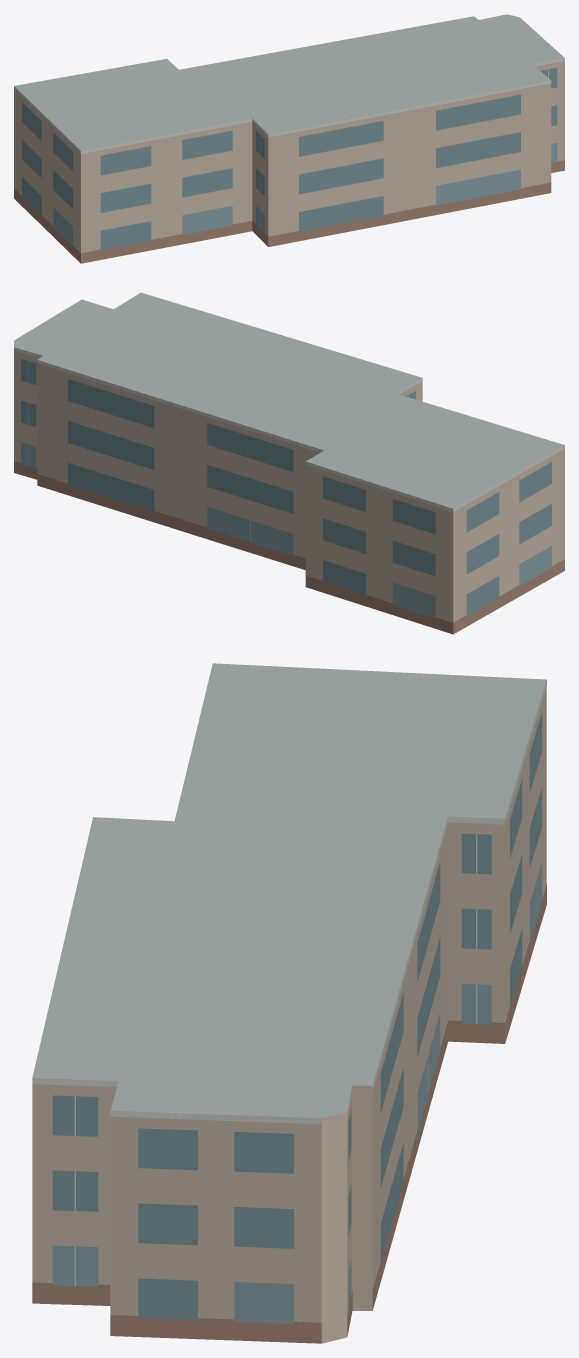
File: survey-upis-32634508.glb
3 renders of one model, top to bottom at view 1: azimuth 30°, elevation 25°; view 2: azimuth 150°, elevation 25°; view 3: azimuth 270°, elevation 25°, orthographic. The views are drawn at different scales.
Visible parts, largest first — view 1: survey-upis-32634508.tmp; view 2: survey-upis-32634508.tmp; view 3: survey-upis-32634508.tmp.
Boxes of the visible parts, x1,y1,x2,y2 form: survey-upis-32634508.tmp: (14, 14, 564, 263); survey-upis-32634508.tmp: (14, 292, 564, 634); survey-upis-32634508.tmp: (32, 663, 546, 1343).
Bounding box in the file's own units: 39.65 × 9.15 × 18.95.
